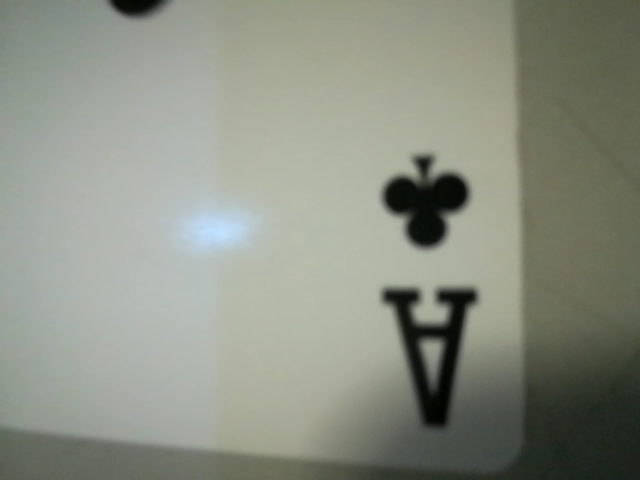mh a: (341, 135, 521, 439)
